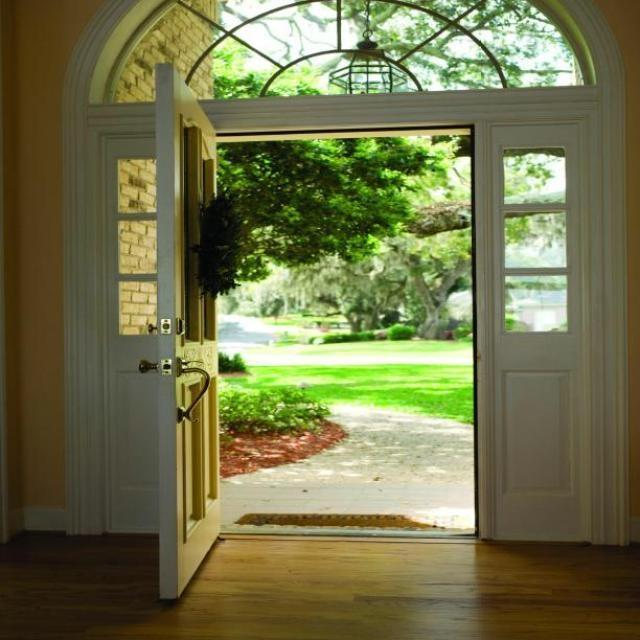door: (151, 59, 235, 609)
